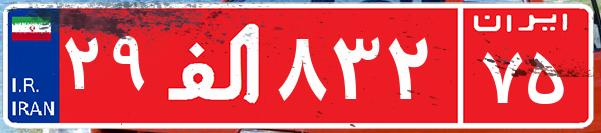2: (385, 28, 445, 110), (57, 26, 110, 107)
3: (330, 28, 385, 110)
5: (525, 38, 570, 115)
7: (475, 38, 525, 113)
8: (273, 28, 330, 110)
9: (110, 28, 158, 105)
الف: (158, 15, 273, 115)
